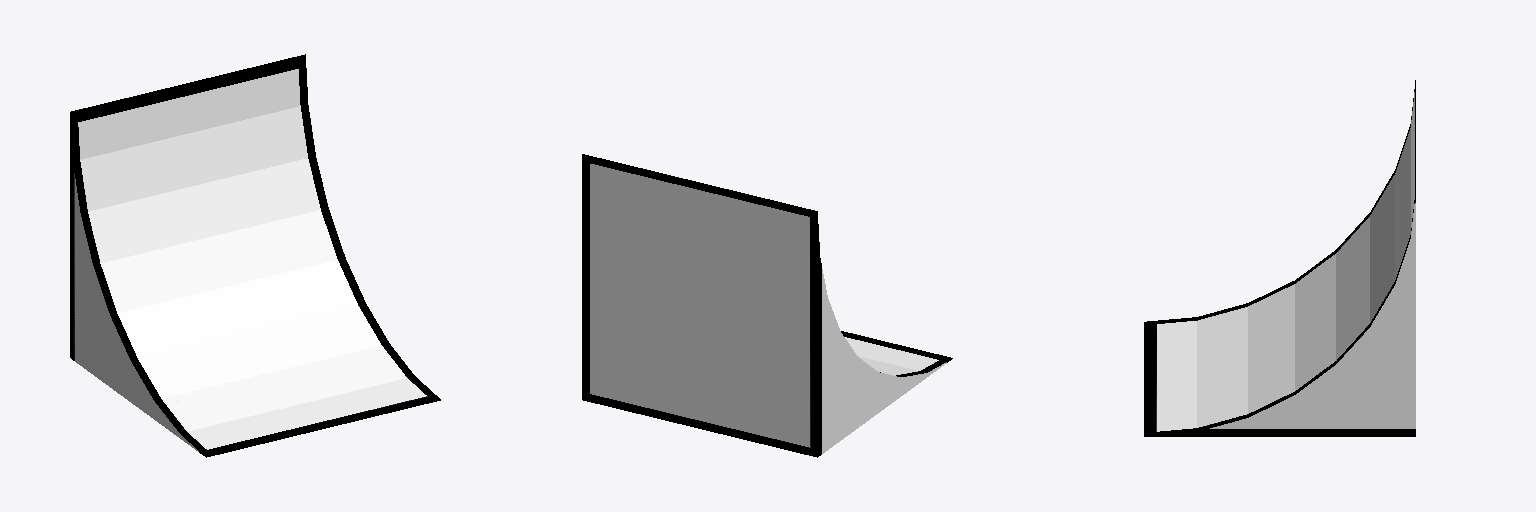
3 renders of one model, left to right at view 1: azimuth 30°, elevation 25°; view 2: azimuth 150°, elevation 25°; view 3: azimuth 270°, elevation 25°, orthographic.
Parts seen in each view (by area): view 1: Cube; view 2: Cube; view 3: Cube.
Part boxes in pixels (x1,y1,x2,y2): Cube: (70,54,440,457); Cube: (582,154,952,457); Cube: (1144,80,1415,436).
Bounding box in the file's own units: 1 × 1 × 1.
1 materials, 1 textured.